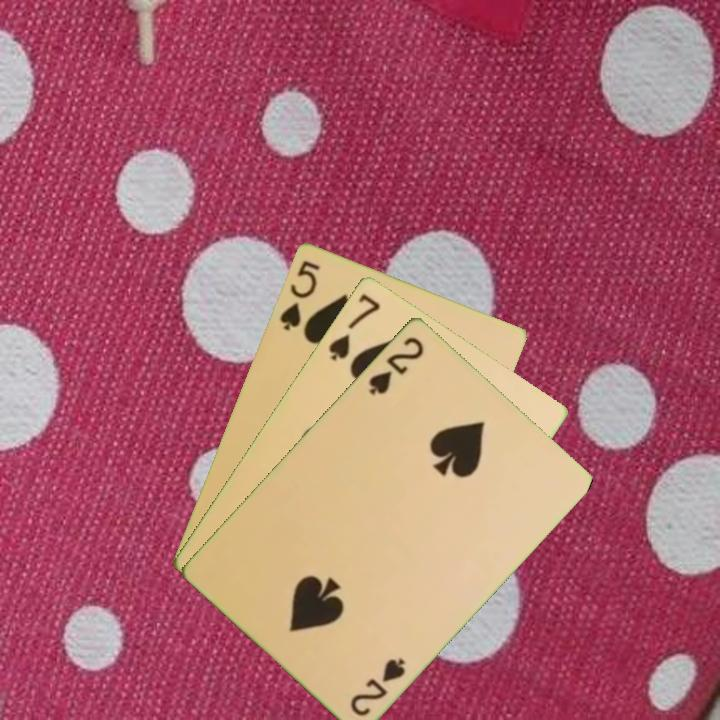2s: (365, 332, 427, 398), (347, 653, 409, 719)
5s: (276, 256, 323, 333)
7s: (324, 289, 383, 363)
